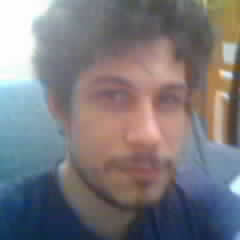without_mask: (70, 37, 189, 208)
